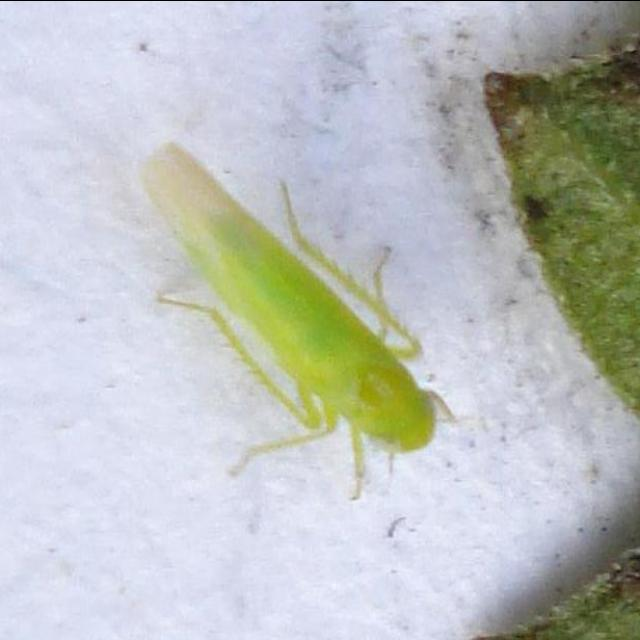green leaf hopper: (145, 145, 454, 499)
